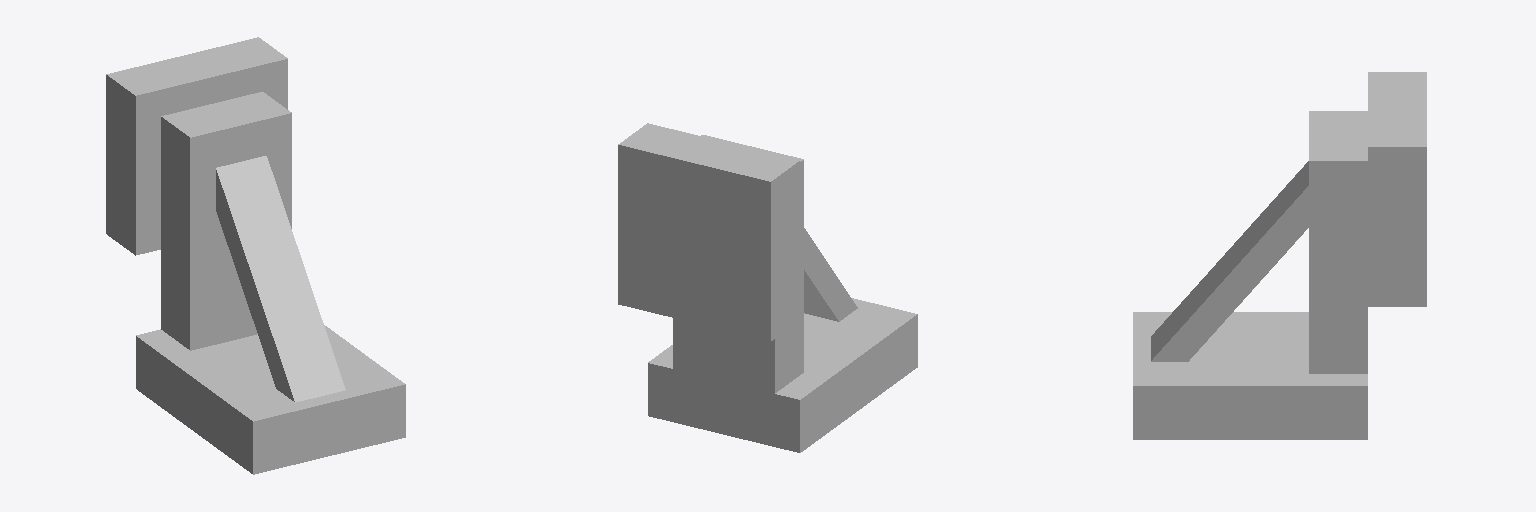
The model's file is wallmount_sideways_inverted.obj.
The picture shows the model from 3 angles: view 1: azimuth 30°, elevation 25°; view 2: azimuth 150°, elevation 25°; view 3: azimuth 270°, elevation 25°; orthographic projection.
Parts seen in each view (by area): view 1: sideways_inverted; view 2: sideways_inverted; view 3: sideways_inverted.
Part boxes in pixels (bbox=[...]): sideways_inverted: bbox=[106, 37, 405, 474]; sideways_inverted: bbox=[618, 123, 917, 452]; sideways_inverted: bbox=[1133, 72, 1426, 439].
Size of the model in its own units: 0.375 by 0.6875 by 0.625.